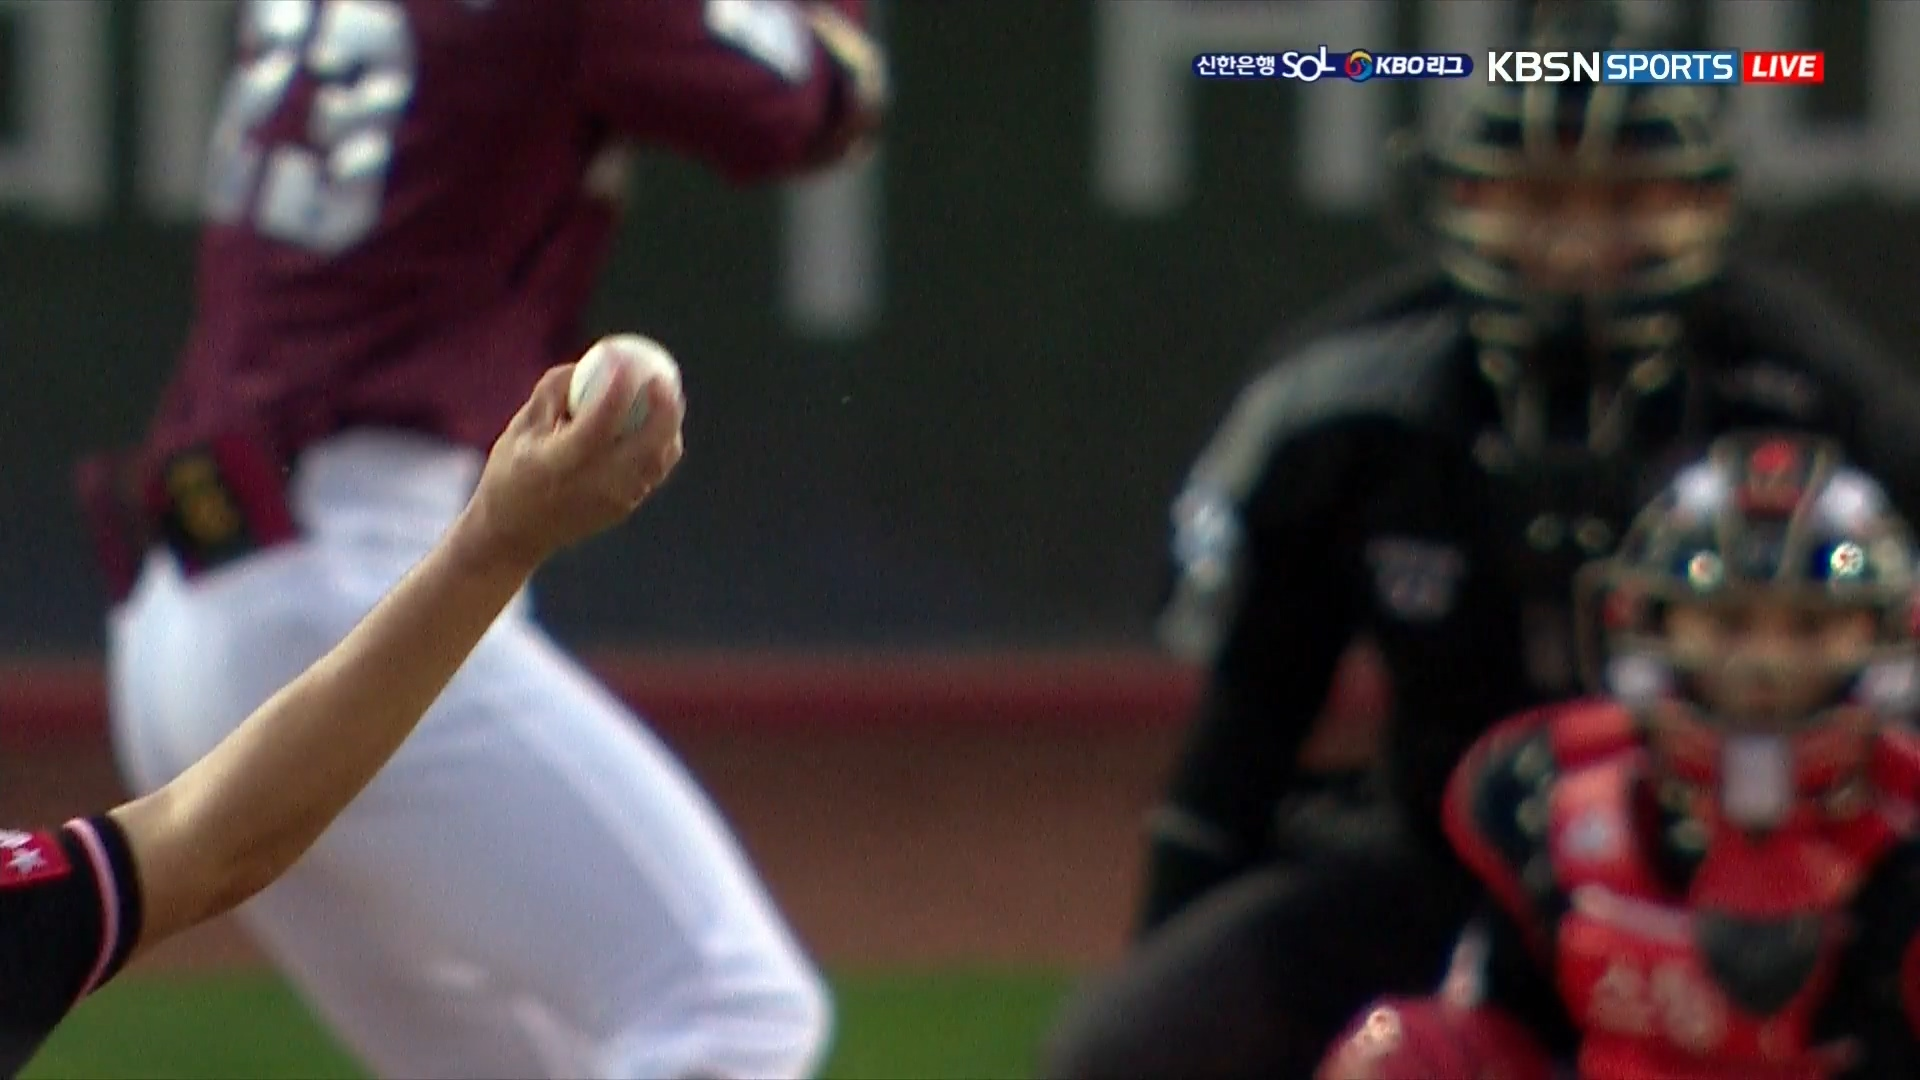zoomin_hand: (153, 324, 708, 913)
